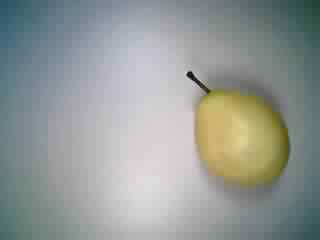pear: (177, 62, 298, 197)
